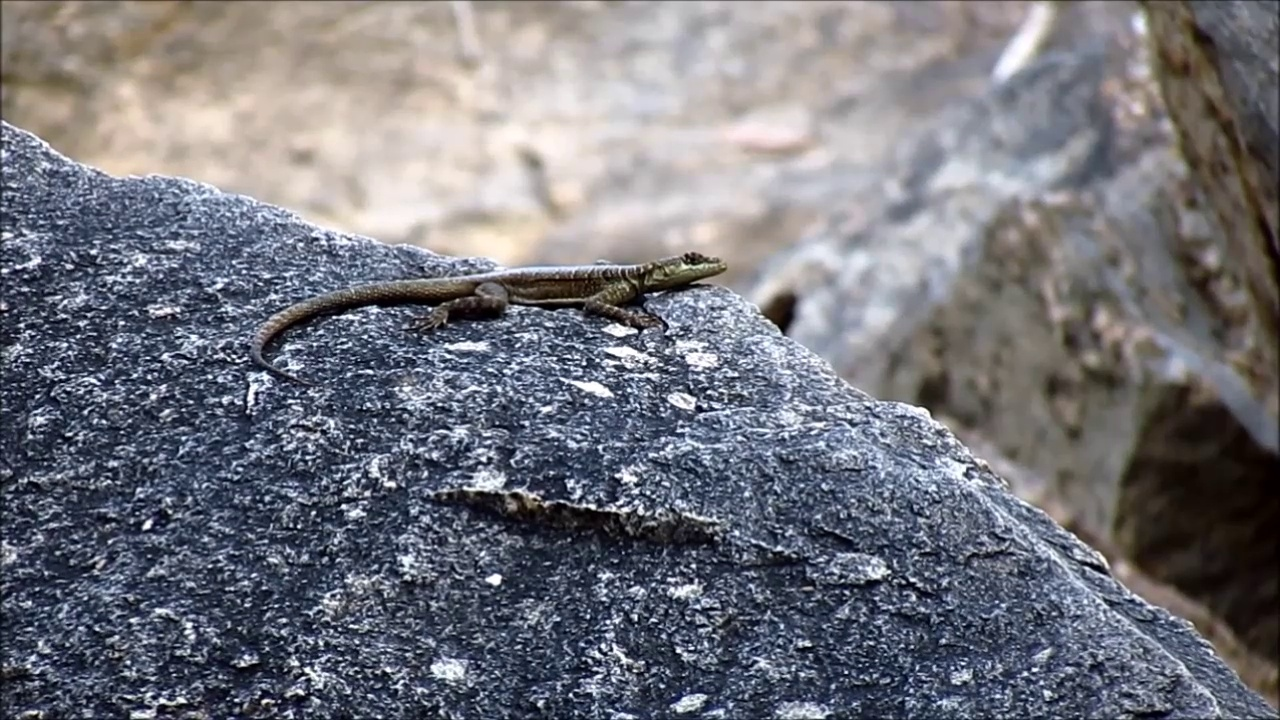body: (253, 264, 652, 388)
head: (643, 251, 727, 290)
